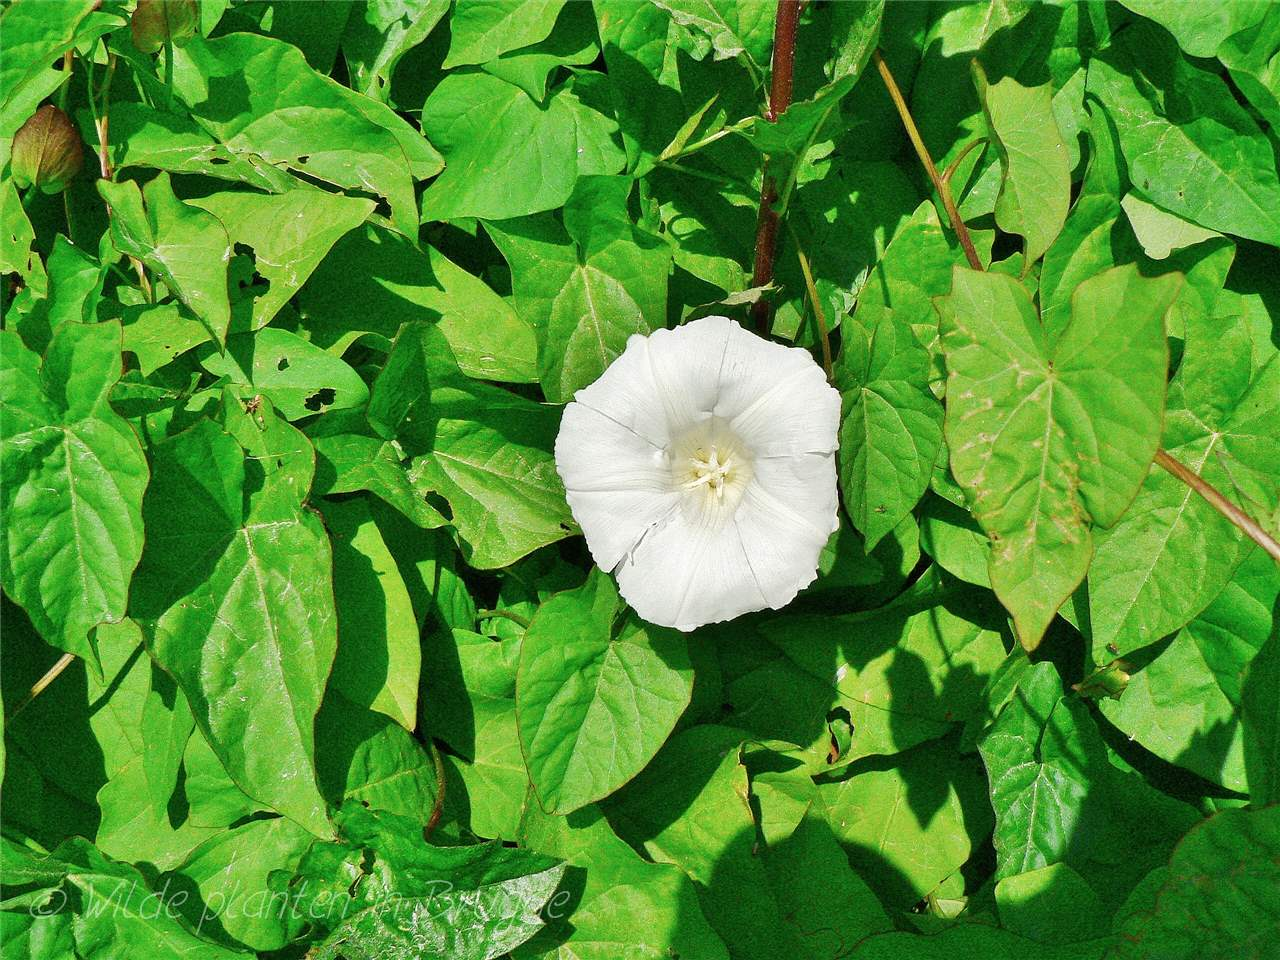haagwinde: (909, 246, 1196, 670), (529, 290, 873, 644), (127, 454, 386, 864)
